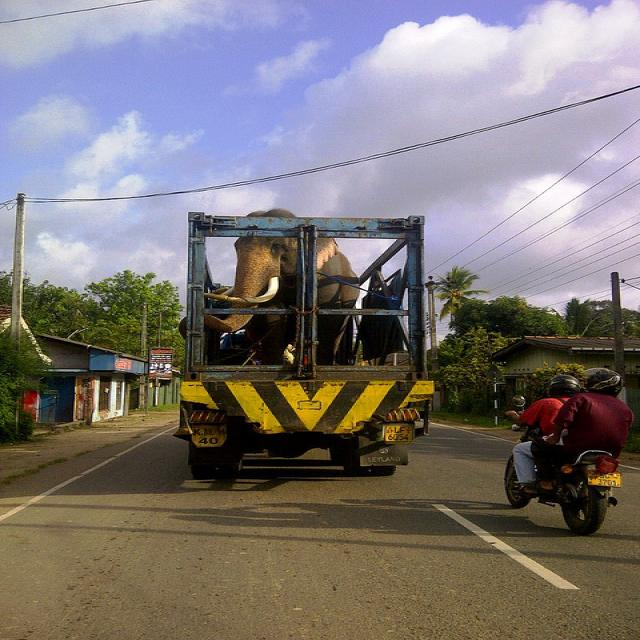motor: (505, 427, 624, 539)
